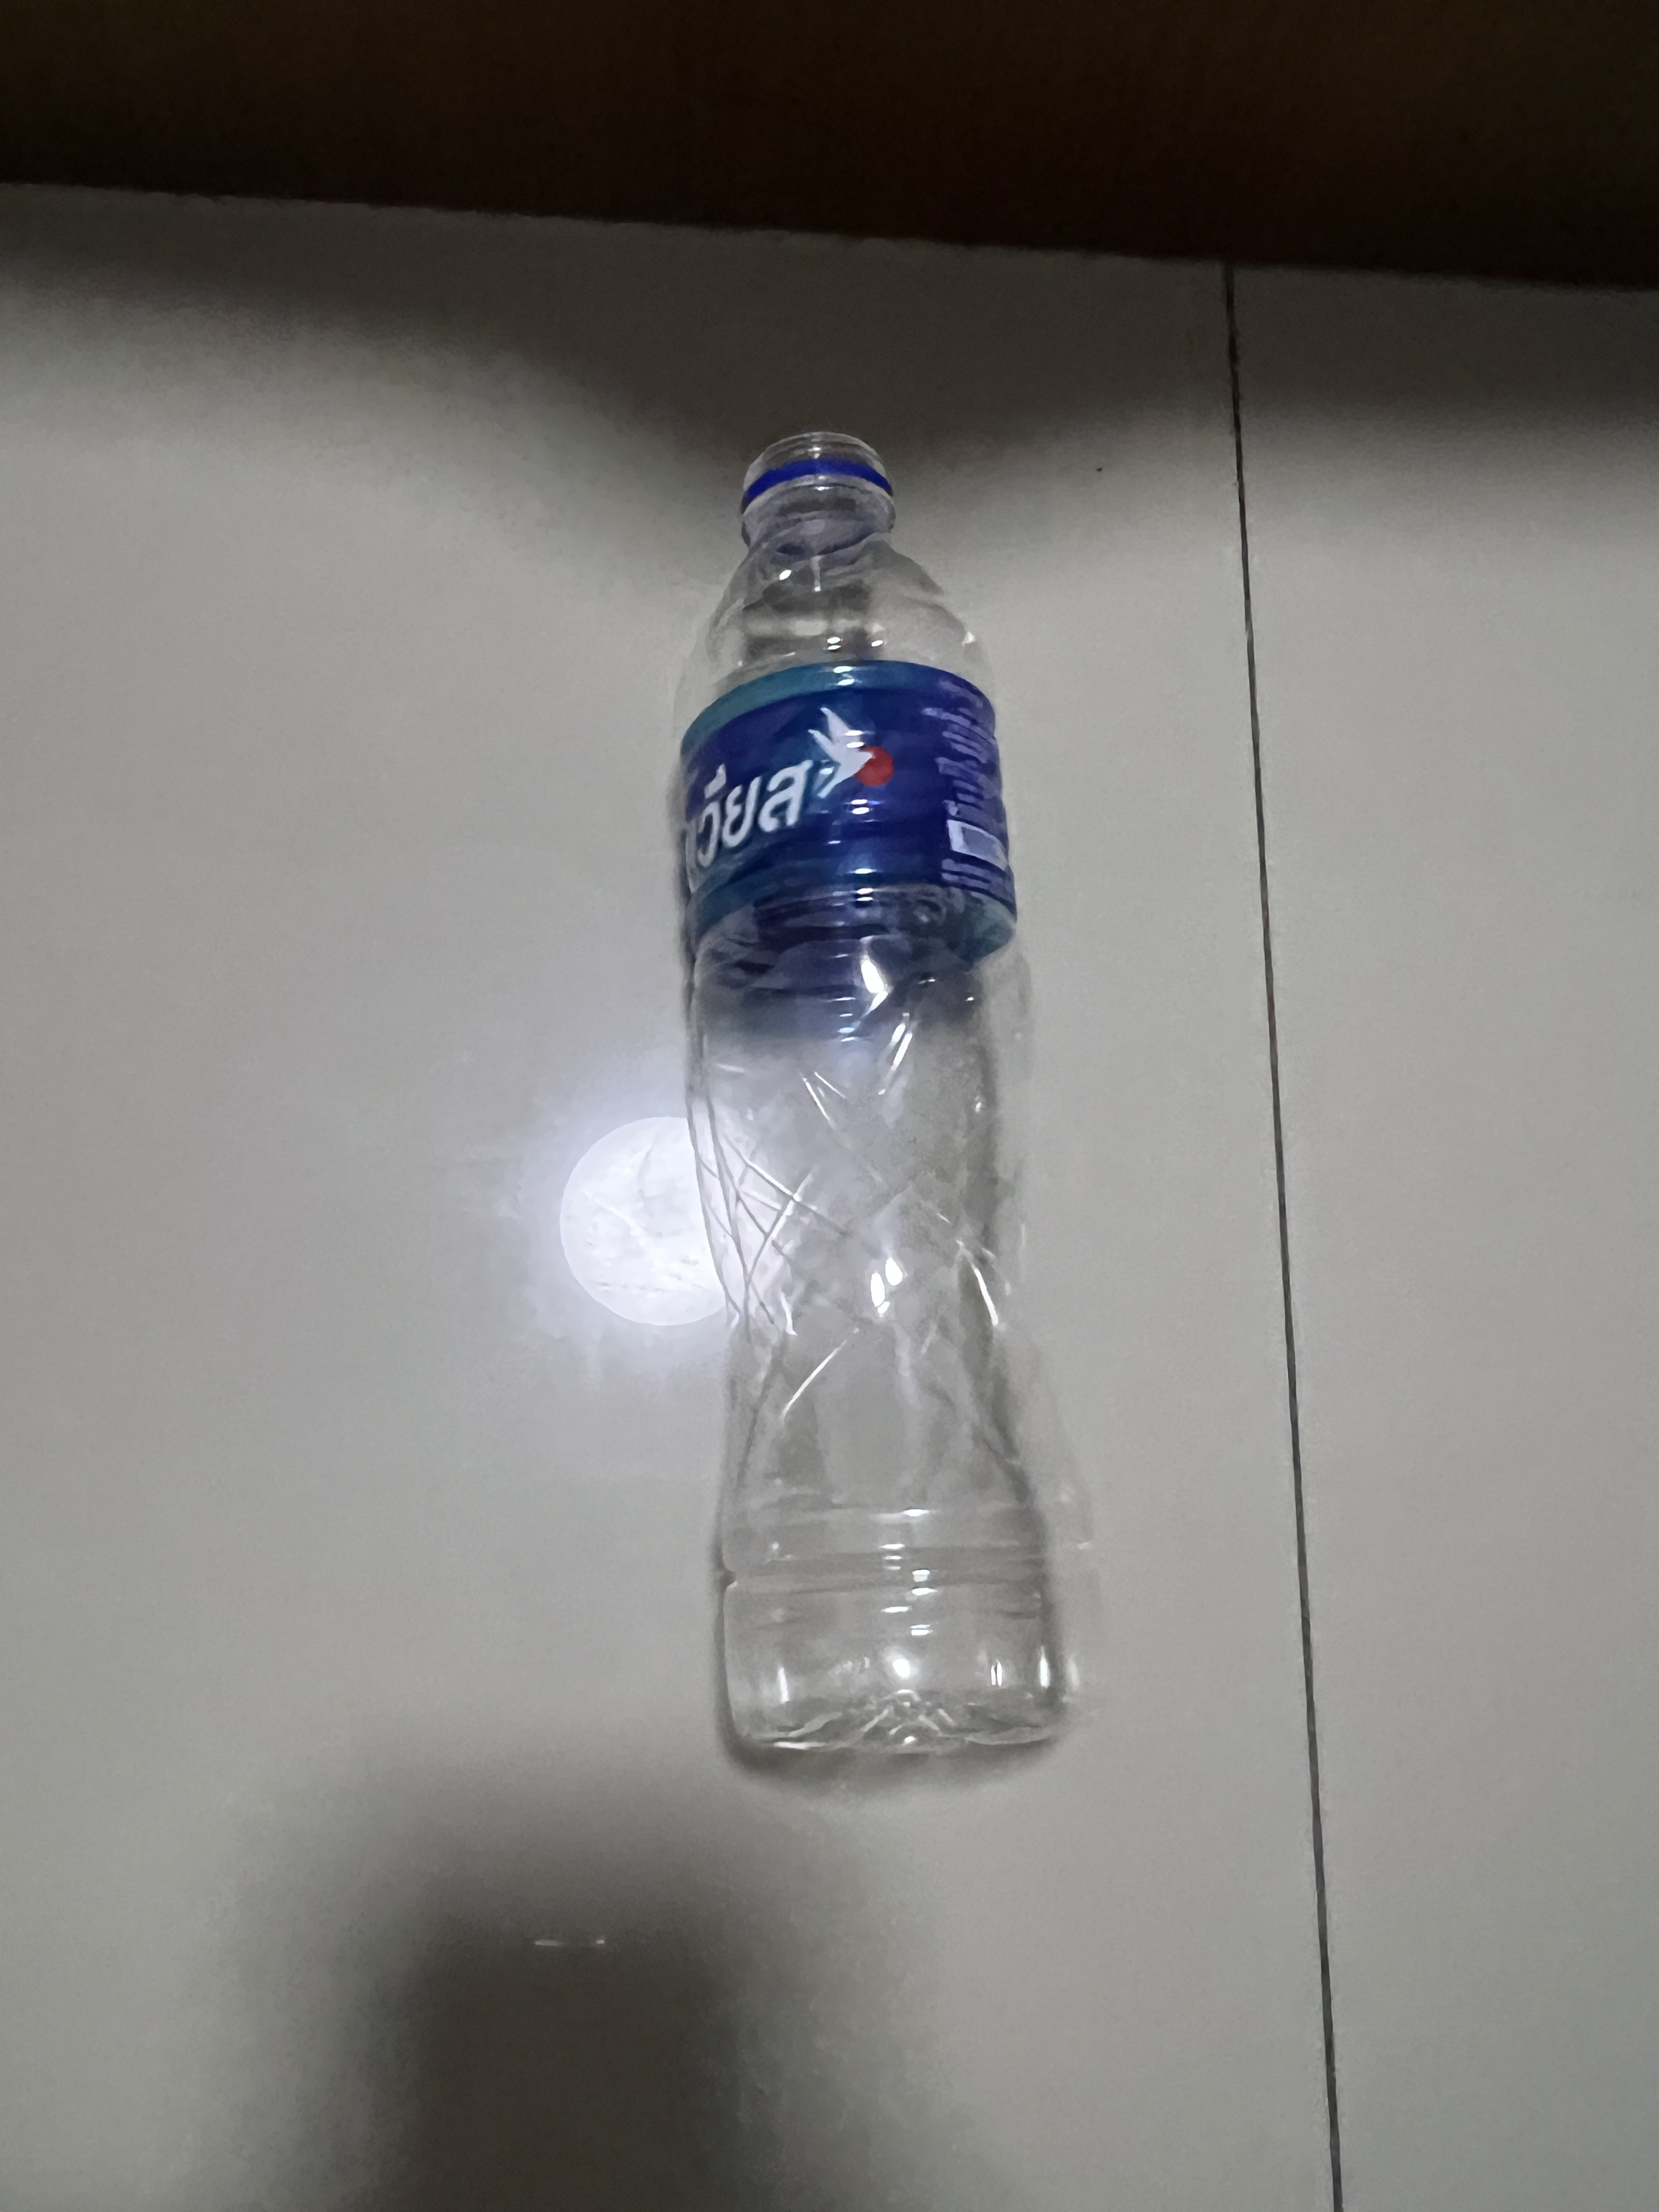plastic_bottle: (599, 366, 1164, 1867)
